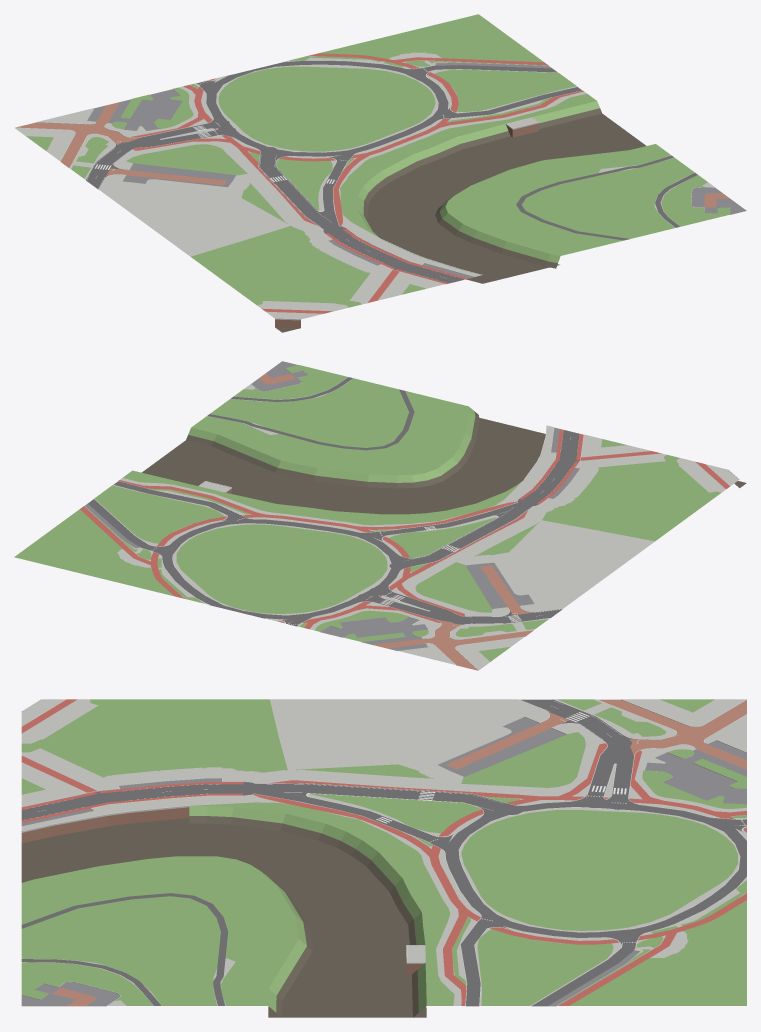
File: ground_6_8.glb
3 renders of one model, top to bottom at view 1: azimuth 30°, elevation 25°; view 2: azimuth 150°, elevation 25°; view 3: azimuth 270°, elevation 25°, orthographic. The views are drawn at different scales.
Parts seen in each view (by area): view 1: ground_6_8; view 2: ground_6_8; view 3: ground_6_8.
Boxes of the visible parts, x1,y1,x2,y2 form: ground_6_8: (14, 14, 746, 332); ground_6_8: (14, 361, 746, 670); ground_6_8: (21, 699, 746, 1017).
Bounding box in the file's own units: 200 × 3.68 × 202.
